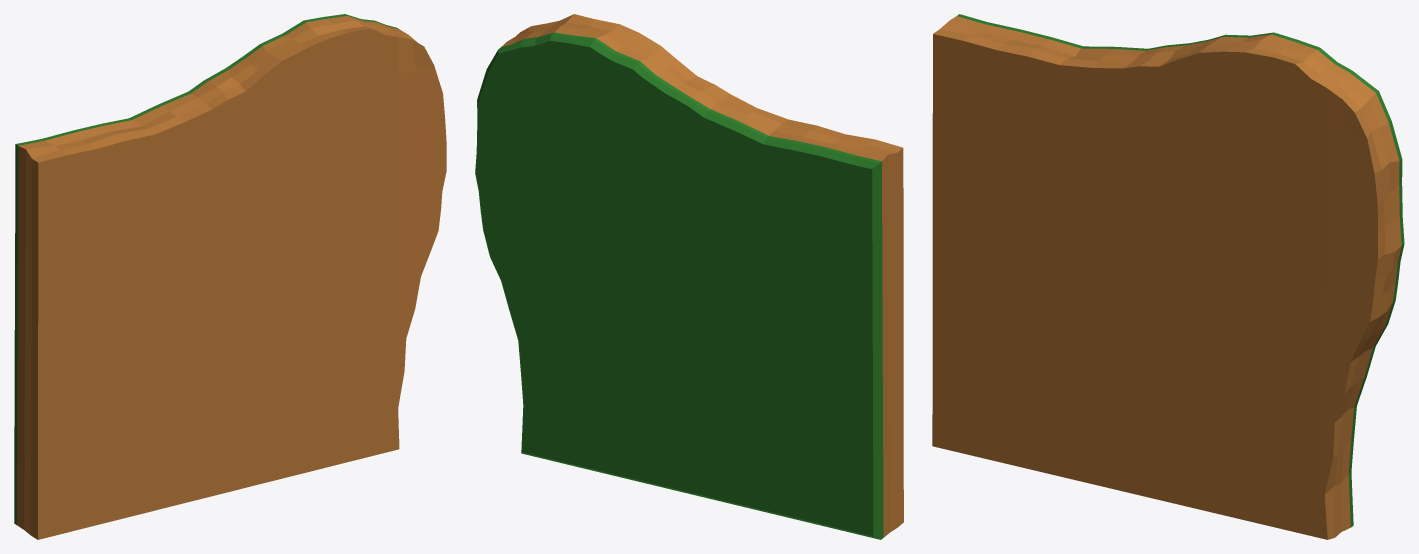
File: corner3.fbx
The picture shows the model from 3 angles, left to right: view 1: azimuth 30°, elevation 25°; view 2: azimuth 150°, elevation 25°; view 3: azimuth 330°, elevation 25°; orthographic projection. The views are drawn at different scales.
Parts seen in each view (by area): view 1: corner3; view 2: corner3; view 3: corner3.
Boxes of the visible parts, bbox=[...] form: corner3: bbox=[14, 14, 446, 539]; corner3: bbox=[475, 14, 903, 539]; corner3: bbox=[932, 14, 1404, 539].
Size of the model in its own units: 2269 by 2296 by 265.
